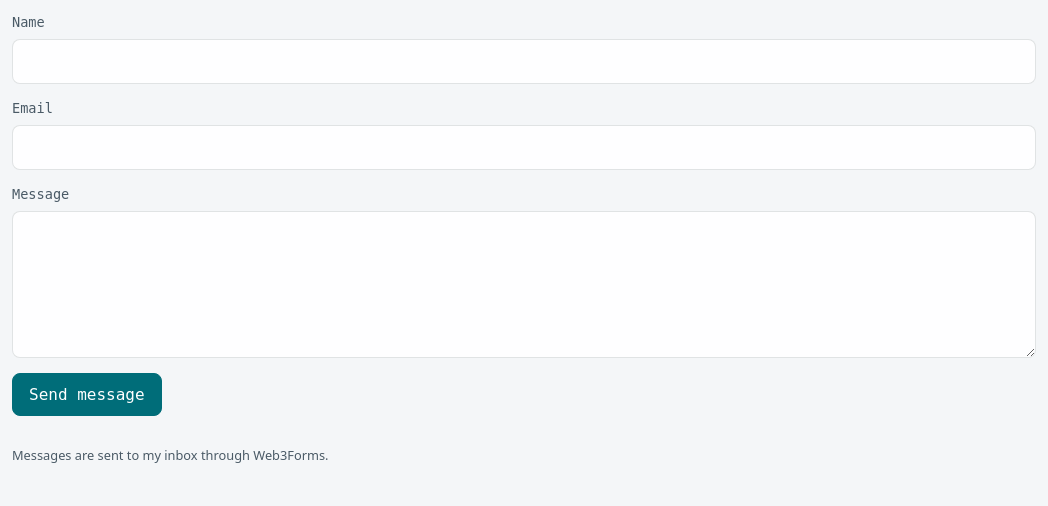
Test: ContactForm › disables the button while sending so a double click sends once
In the field labelled "Name": (524, 61) x1=12 y1=38 x2=1036 y2=84, type "Ada"
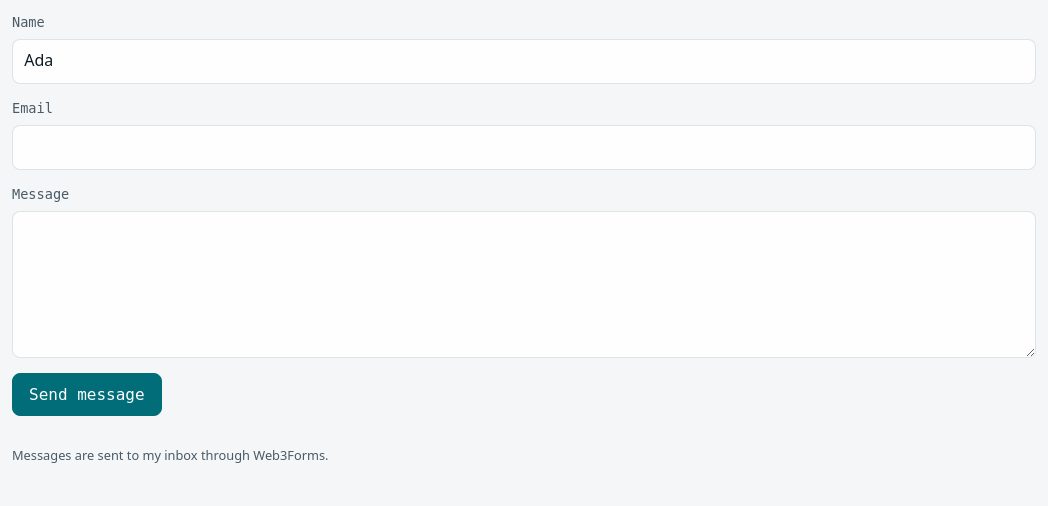
In the field labelled "Email": (524, 147) x1=12 y1=125 x2=1036 y2=170, type "ada@example.com"
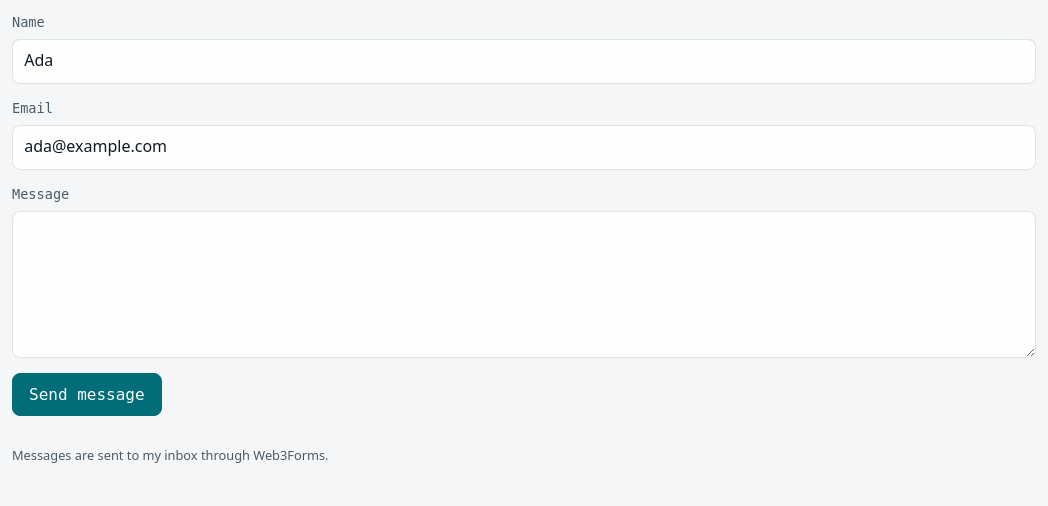
In the text box labelled "Message": (524, 285) x1=12 y1=211 x2=1036 y2=358, type "Hello there, a longer message."
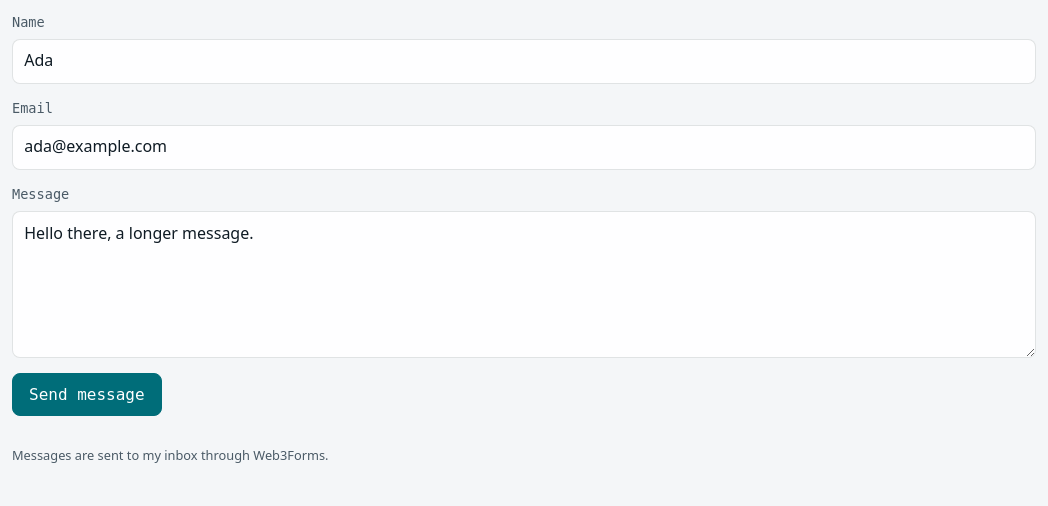
Click the button "Send message": (87, 395) x1=12 y1=373 x2=162 y2=416
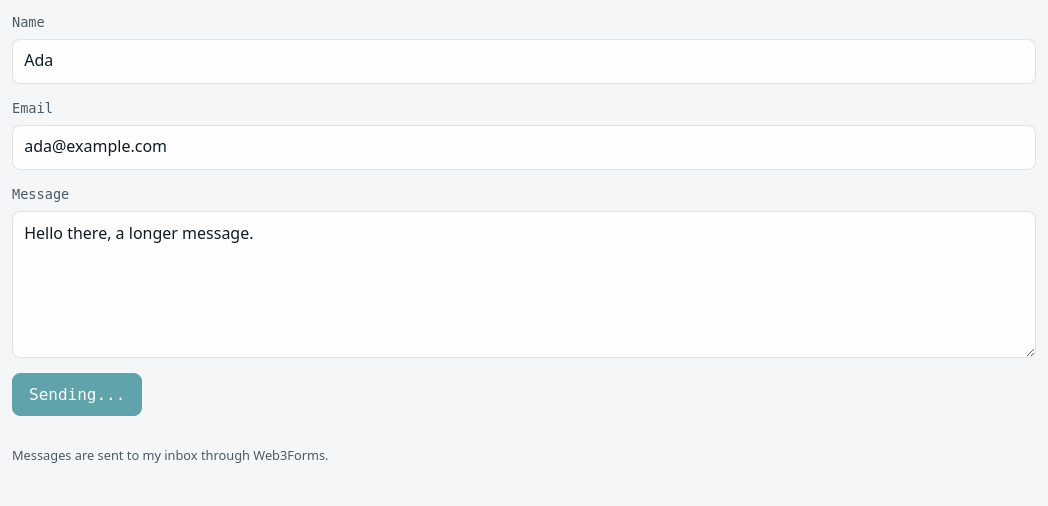
Now the button "Sending..." is disabled
Click the button "Sending...": (77, 395) x1=12 y1=373 x2=142 y2=416
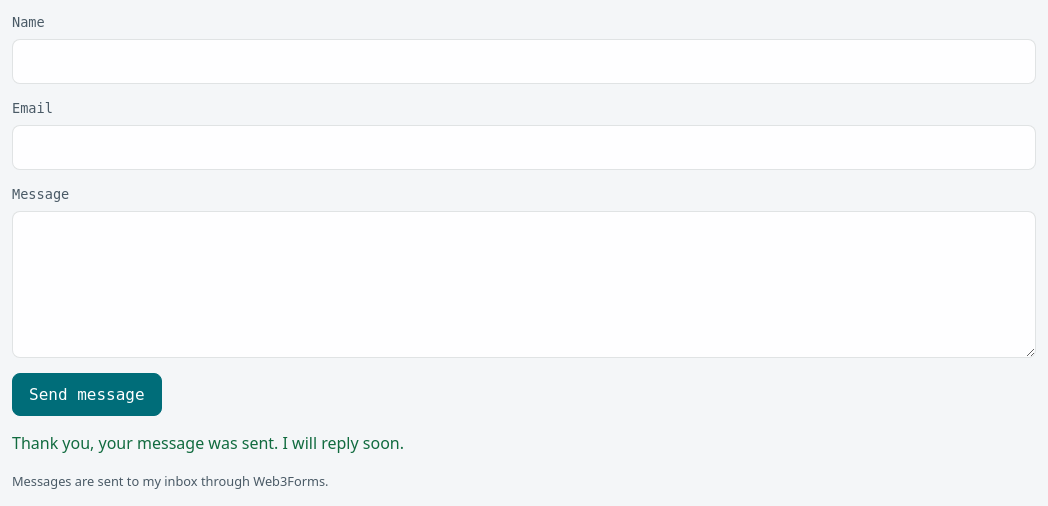
Now the message shows "Thank", box x1=12 y1=432 x2=404 y2=454
